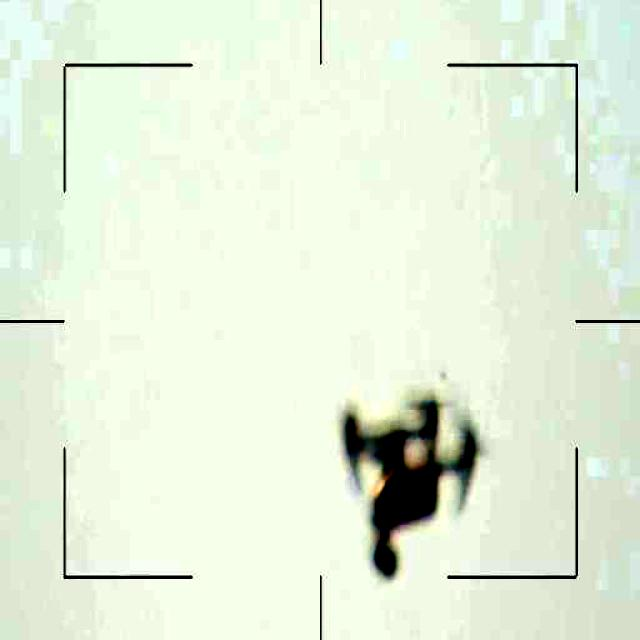bird: (326, 392, 500, 581)
